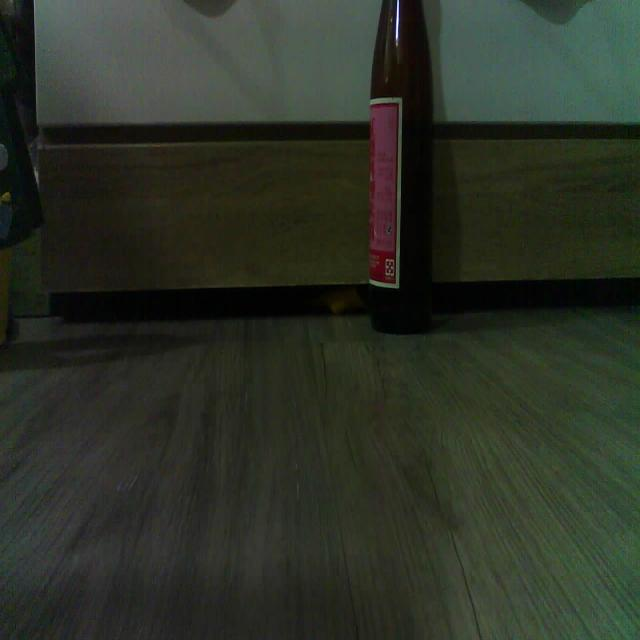bottle: (367, 0, 436, 332)
